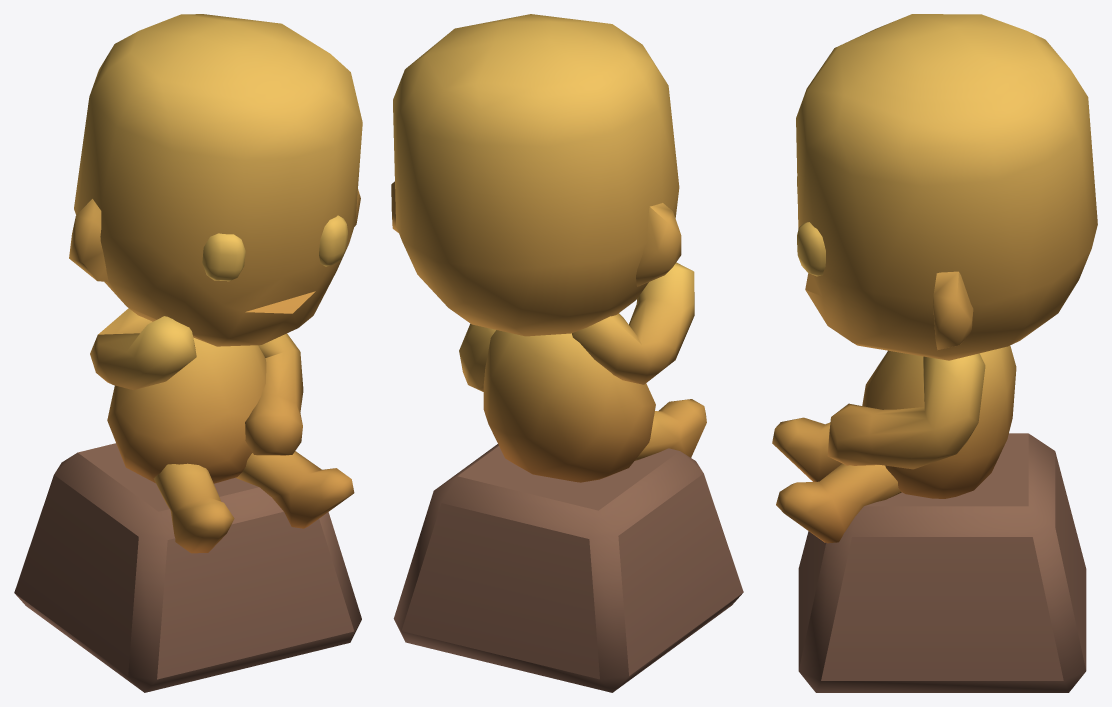
Rendered from idol-b.glb.
3 views of the same model, side by side, from view 1: azimuth 30°, elevation 25°; view 2: azimuth 150°, elevation 25°; view 3: azimuth 270°, elevation 25° (orthographic). The views are drawn at different scales.
Visible parts, largest first — view 1: idol_B; view 2: idol_B; view 3: idol_B.
Part boxes in pixels (bbox=[...]): idol_B: bbox=[14, 14, 362, 692]; idol_B: bbox=[391, 14, 743, 692]; idol_B: bbox=[772, 14, 1097, 692].
Size of the model in its own units: 0.3832 by 0.7334 by 0.3503.
1 material, 1 textured.
